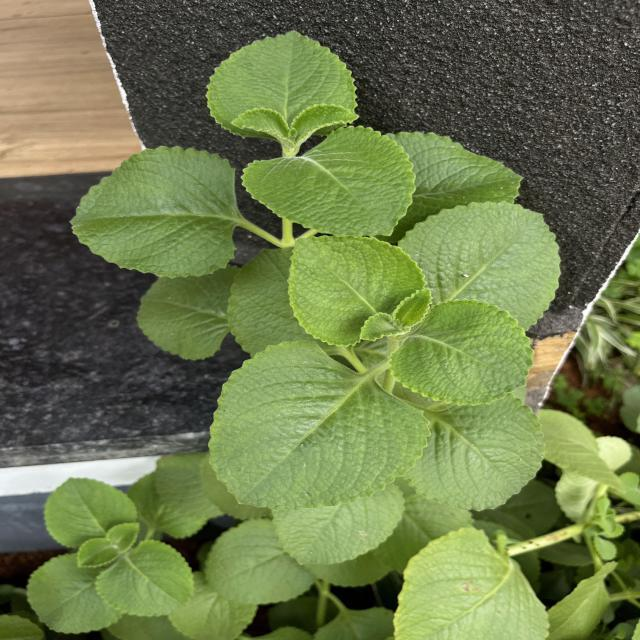Plectranthus barbatus: (206, 338, 433, 512), (65, 144, 239, 280), (397, 198, 564, 332), (239, 122, 417, 238), (388, 524, 552, 640), (204, 28, 360, 142), (402, 392, 546, 512), (386, 298, 534, 408), (284, 234, 426, 348), (271, 484, 405, 566), (134, 263, 240, 362), (203, 516, 316, 606), (24, 552, 126, 635), (94, 538, 196, 618), (41, 475, 138, 550), (76, 537, 120, 569)
